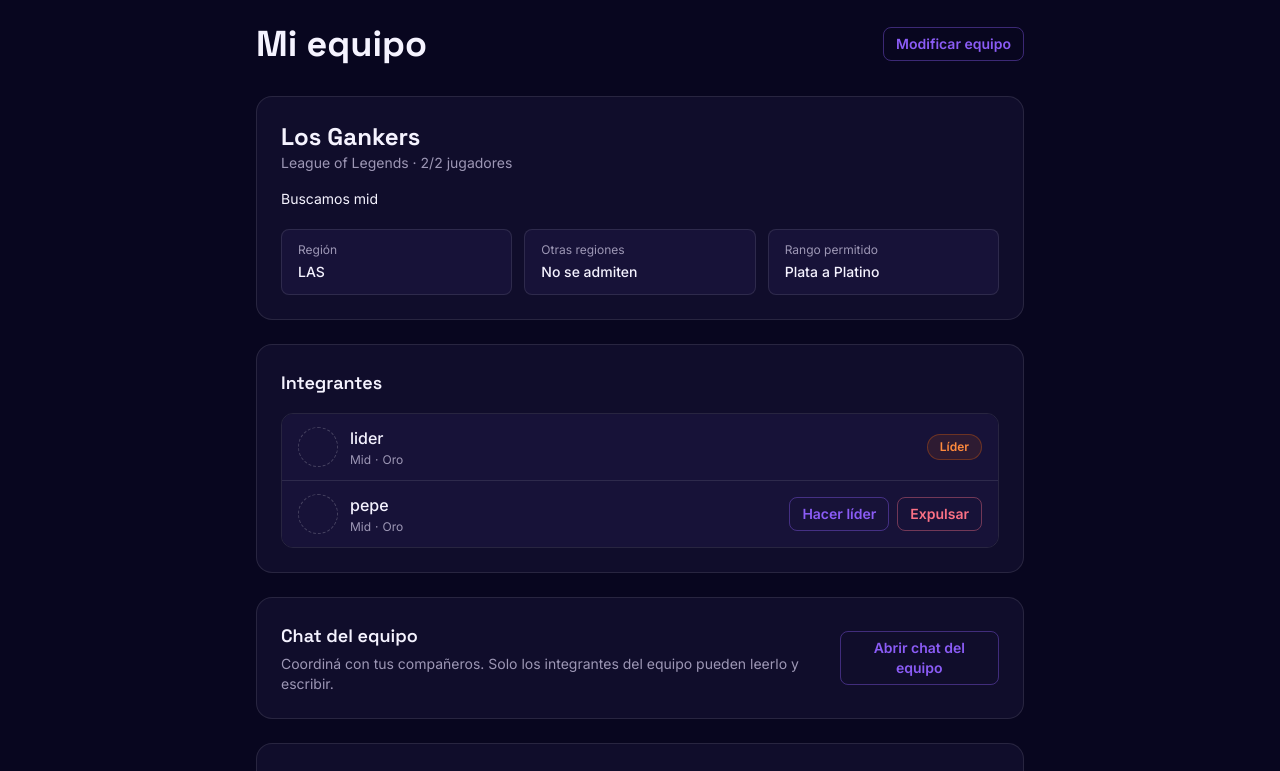
MiEquipoPage › US 15 - Modificar equipo › el líder modifica la descripción y el permiso de región sin tocar los rangos
Click the button "Modificar equipo" at (954, 44), box [883, 27, 1024, 61]
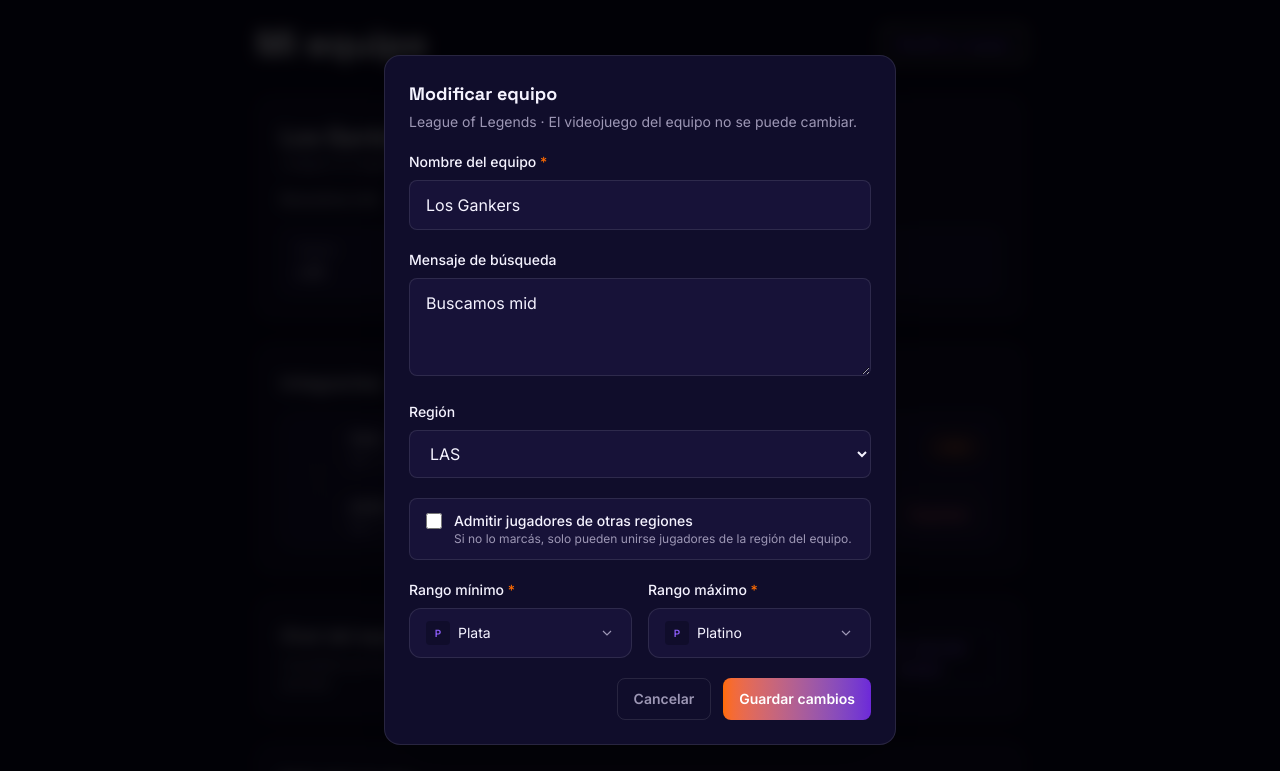
Expected: the button named "Rango máximo" shows "Platino", [648, 608, 871, 658]
Expected: the dialog shows "El videojuego del equipo no se puede cambiar", [537, 113, 857, 130]
Replace the text in the text box labelled "Mensaje de búsqueda" with "Buscamos support" at (640, 327), box [409, 278, 871, 376]
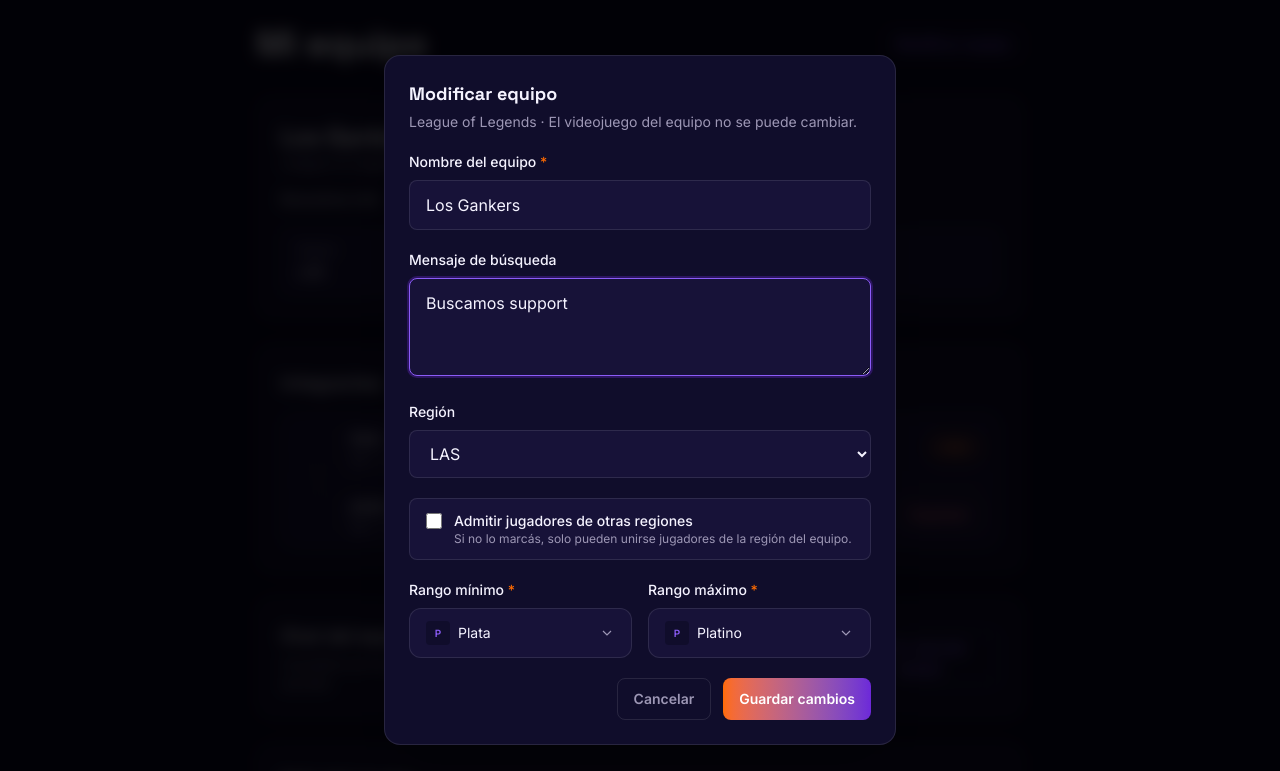
Click the checkbox labelled "Admitir jugadores de otras regiones" at (434, 521), box [426, 513, 442, 529]
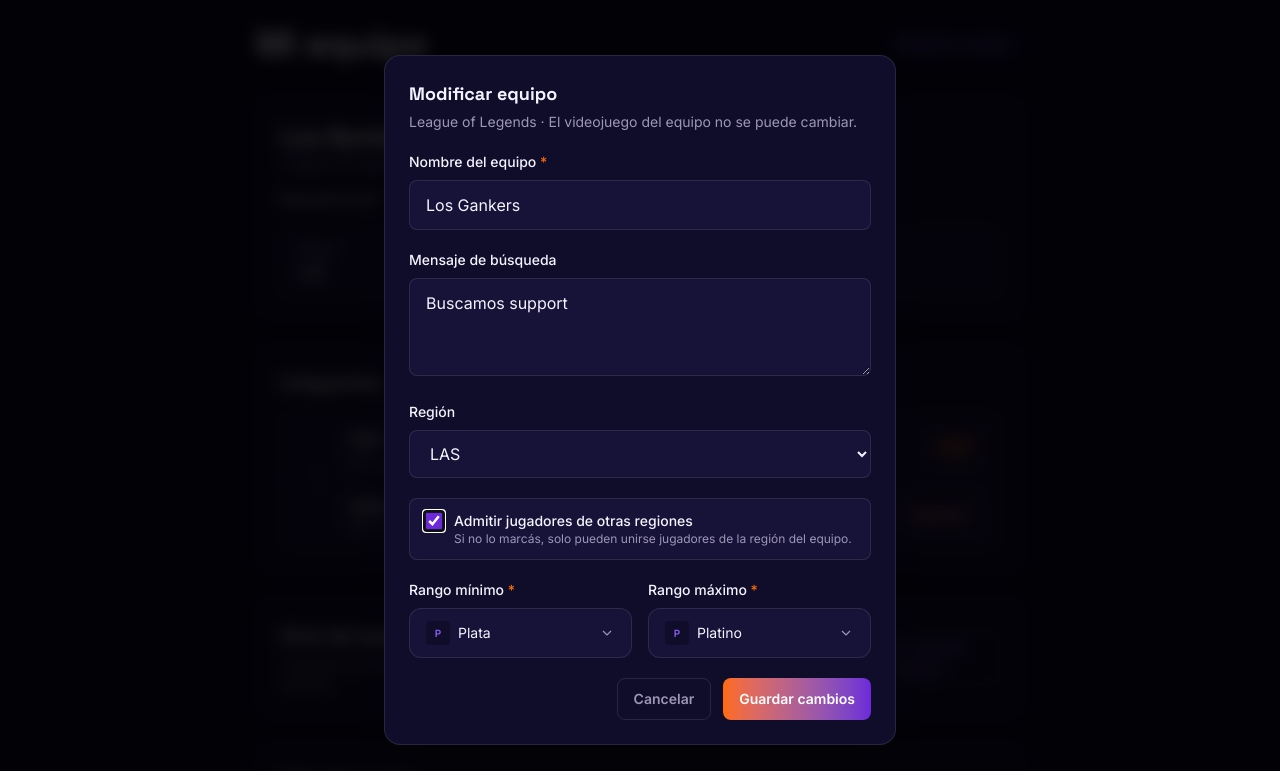
Click the button "Guardar cambios" at (797, 699), box [723, 678, 871, 720]
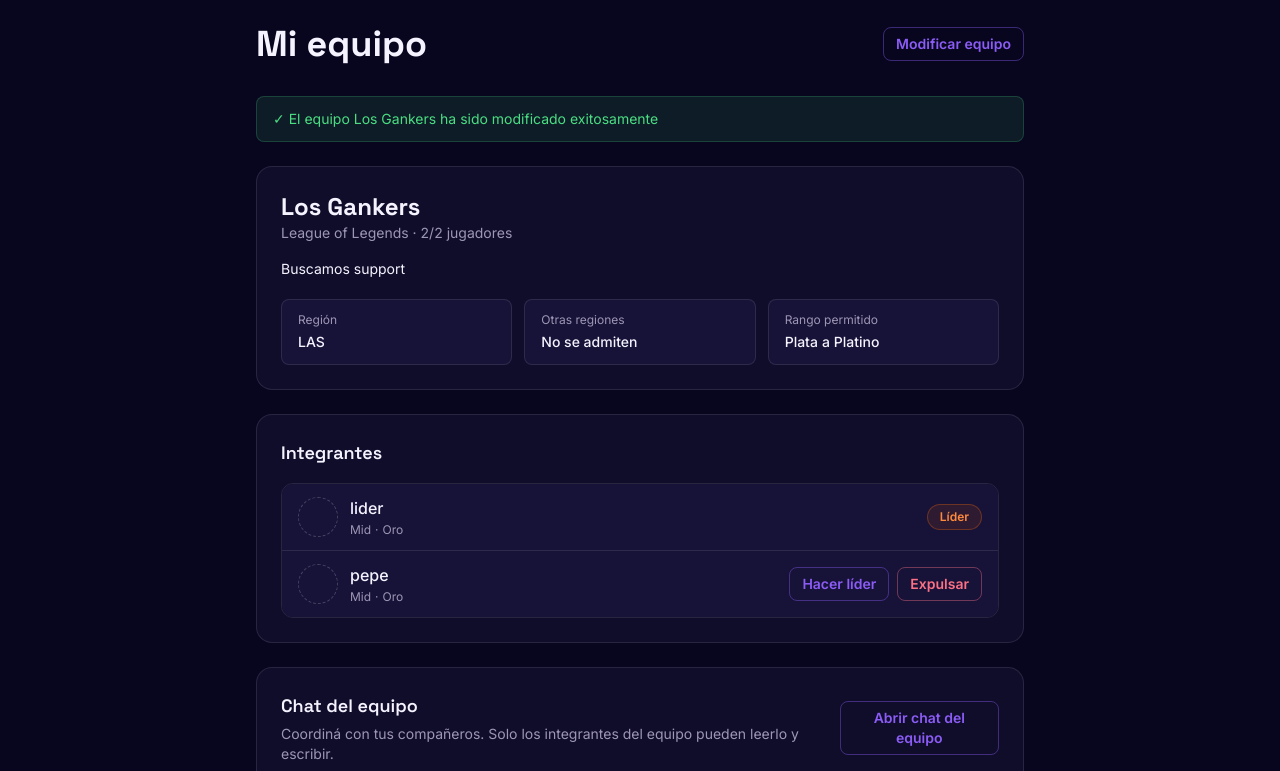
Expected: the text "✓ El equipo Los Gankers ha sido modificado exitosamente" is shown, [273, 110, 658, 127]
Expected: the text "Buscamos support" is shown, [281, 260, 405, 277]
